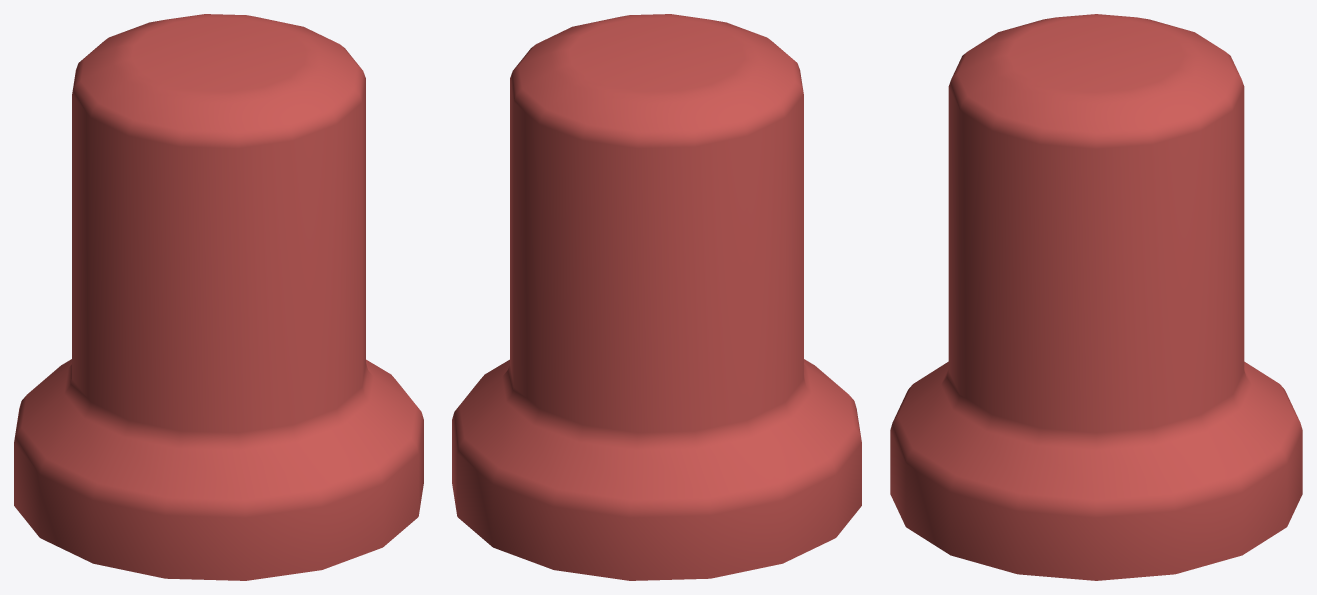
Rendered from pawn_red.fbx.
The picture shows the model from 3 angles, left to right: view 1: azimuth 30°, elevation 25°; view 2: azimuth 150°, elevation 25°; view 3: azimuth 270°, elevation 25°; orthographic projection.
Visible parts, largest first — view 1: Pawn_Red; view 2: Pawn_Red; view 3: Pawn_Red.
Part boxes in pixels (x1,y1,x2,y2): Pawn_Red: (14,14,423,580); Pawn_Red: (452,14,861,580); Pawn_Red: (890,14,1302,580).
Bounding box in the file's own units: 6.49 × 7.61 × 6.49.
1 material, 1 textured.
